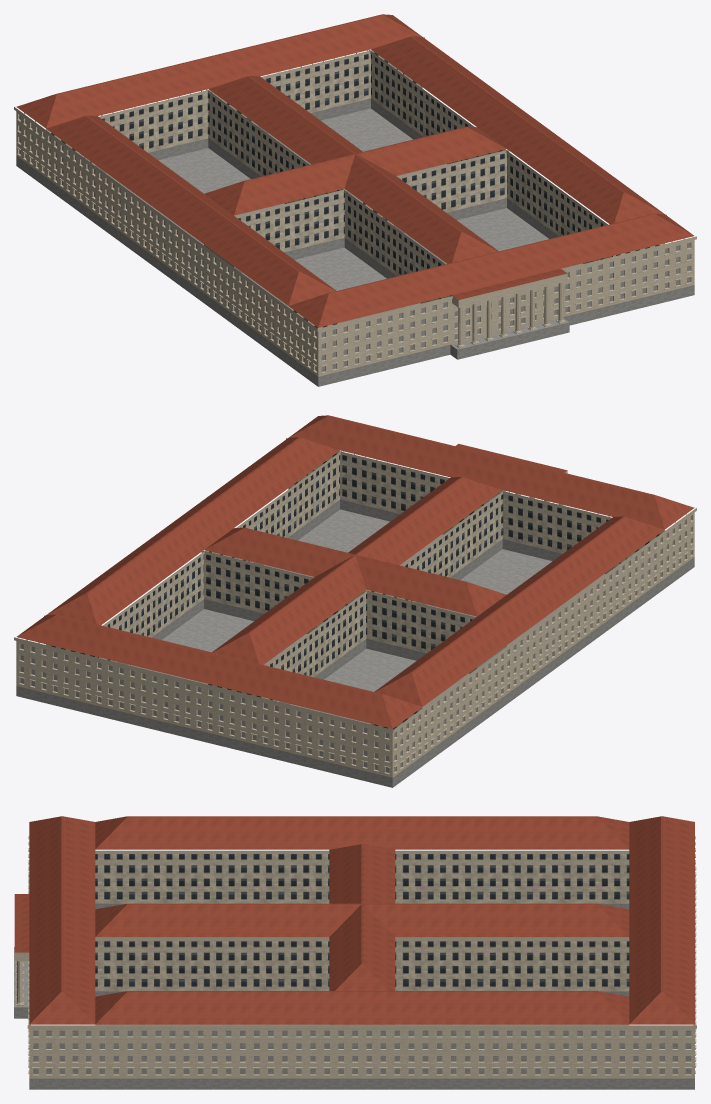
Rendered from doj_rfk.glb.
3 views of the same model, one above another, from view 1: azimuth 30°, elevation 25°; view 2: azimuth 150°, elevation 25°; view 3: azimuth 270°, elevation 25° (orthographic). The views are drawn at different scales.
Visible parts, largest first — view 1: doj_rfk; view 2: doj_rfk; view 3: doj_rfk.
Boxes of the visible parts, bbox=[...] form: doj_rfk: bbox=[14, 14, 696, 386]; doj_rfk: bbox=[14, 415, 696, 787]; doj_rfk: bbox=[14, 816, 696, 1089].
Bounding box in the file's own units: 132 × 25.39 × 187.
4 materials, 4 textured.
